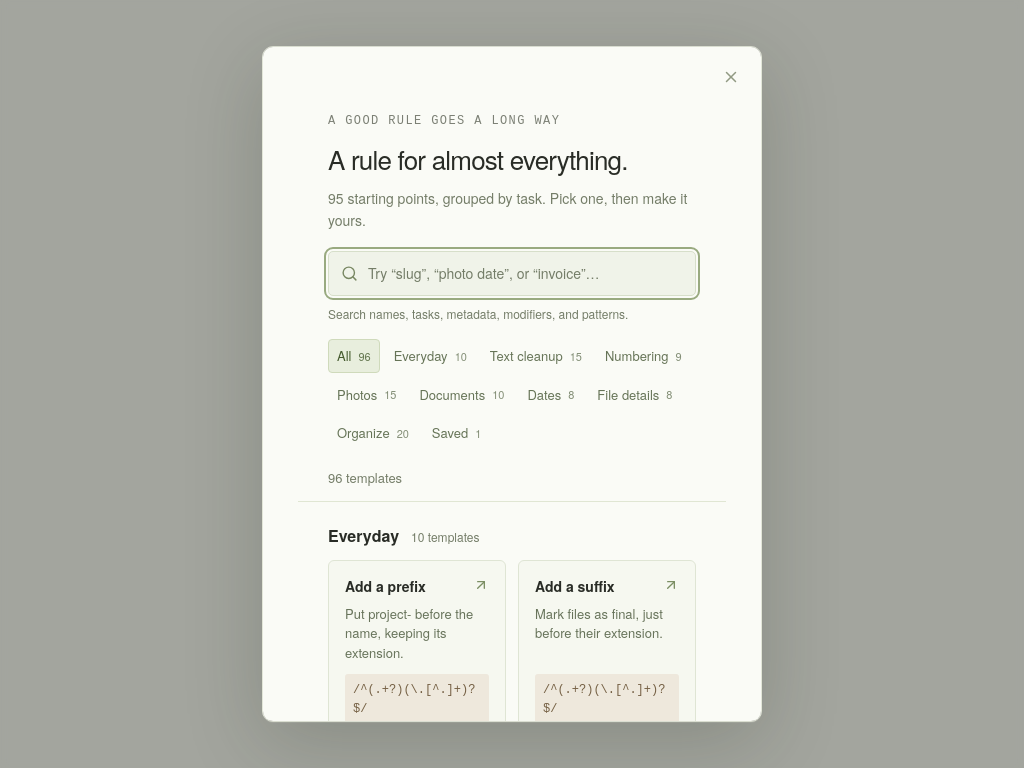
Test: template library › shows an empty result and resets both category and search with Clear filters
Step 1. Click the button "Documents 10" → (462, 395), box top-left (410, 378), bottom-right (514, 412)
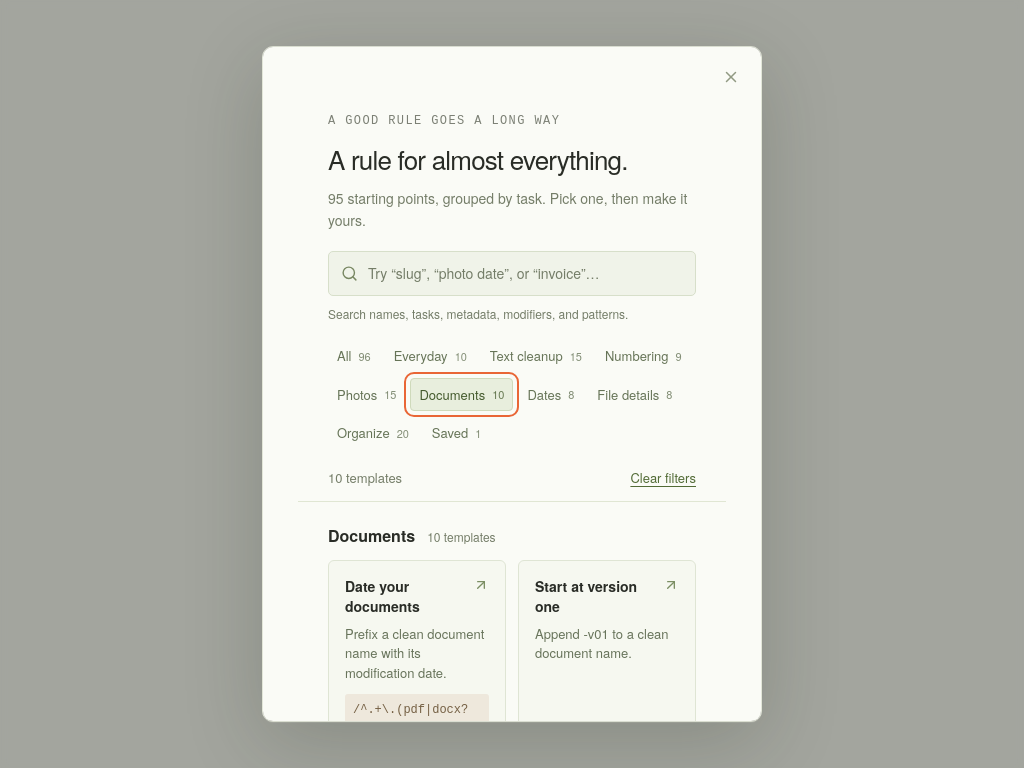
Step 2. Click the field named "Search templates" → (526, 274), box top-left (368, 263), bottom-right (683, 284)
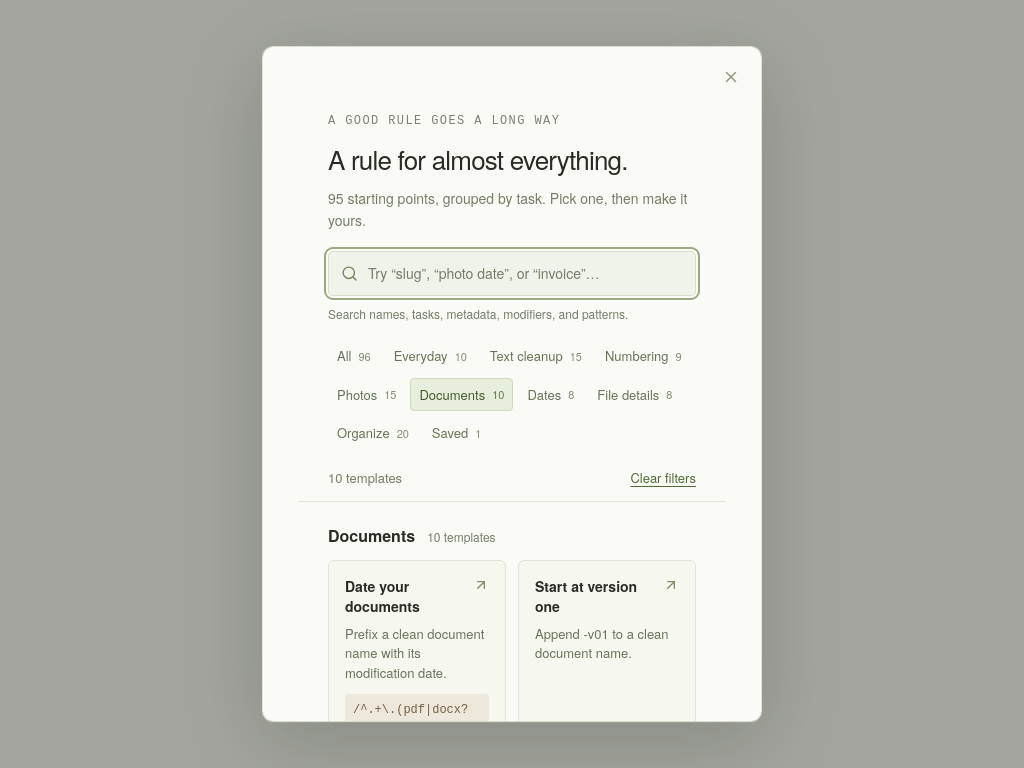
Step 3. Type keys "no-template-could-match-this-query"
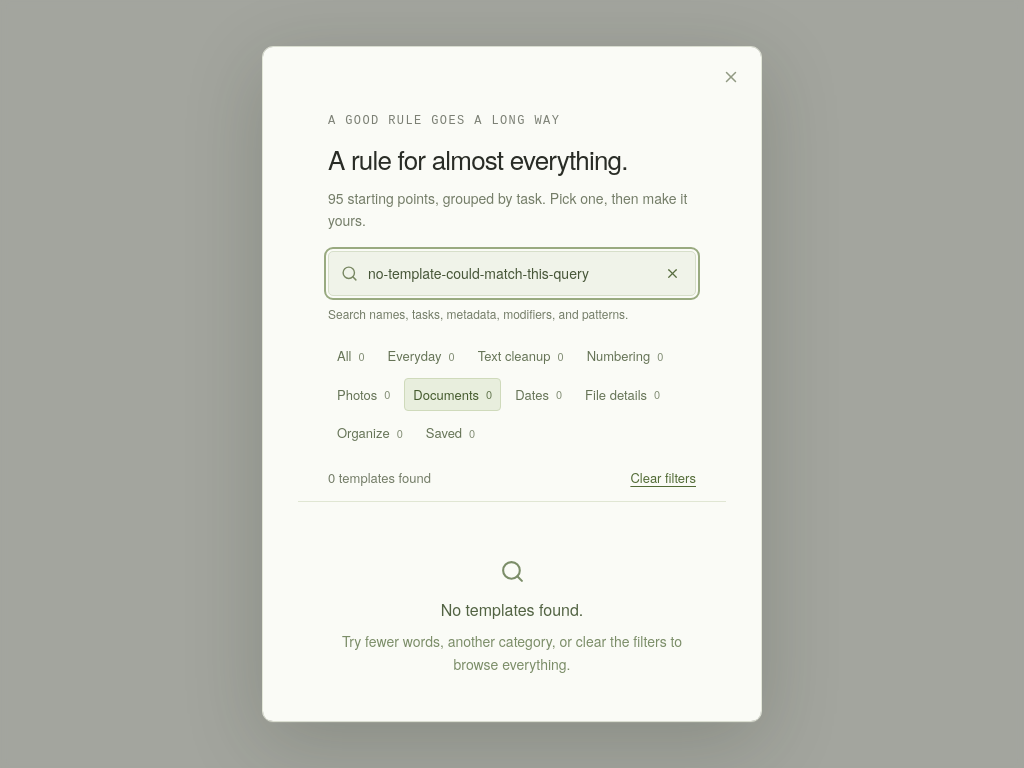
Check: the heading "No templates found." is shown, box top-left (441, 599), bottom-right (583, 623)
Check: the message reads "0 templates found", box top-left (328, 468), bottom-right (431, 488)
Check: no the heading "Documents" are shown
Step 4. Click the button "Clear filters" → (663, 478), box top-left (630, 466), bottom-right (696, 490)
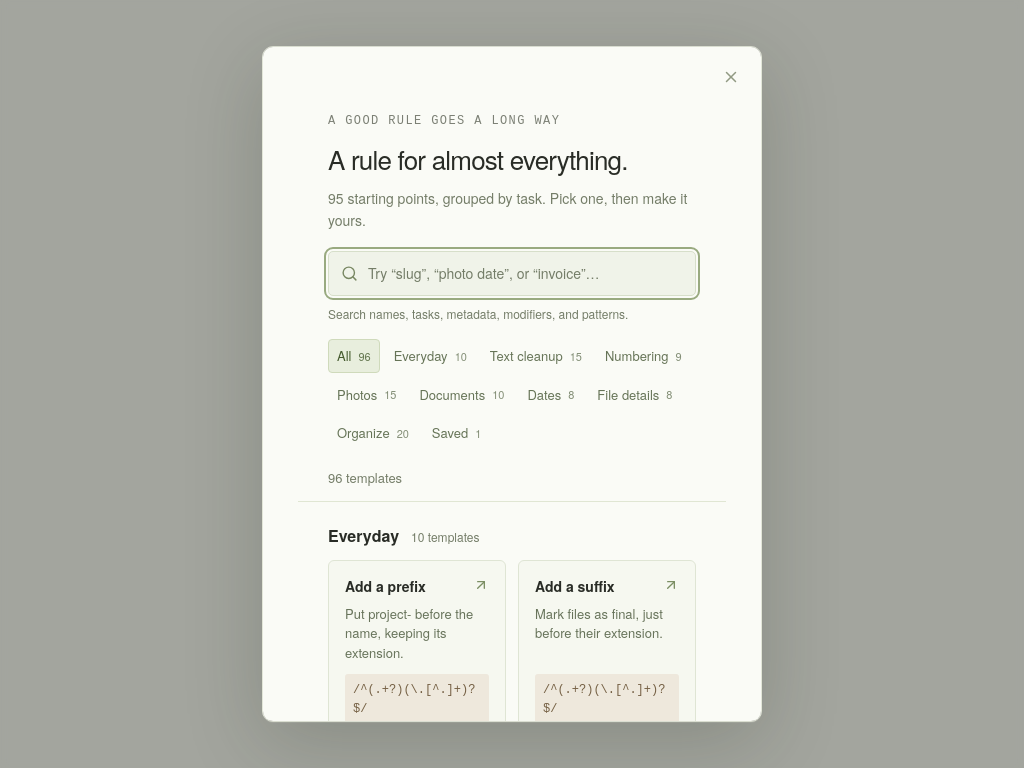
Check: the button "All 96" is shown, box top-left (328, 340), bottom-right (380, 373)
Check: the field named "Search templates" is empty, box top-left (368, 263), bottom-right (683, 284)
